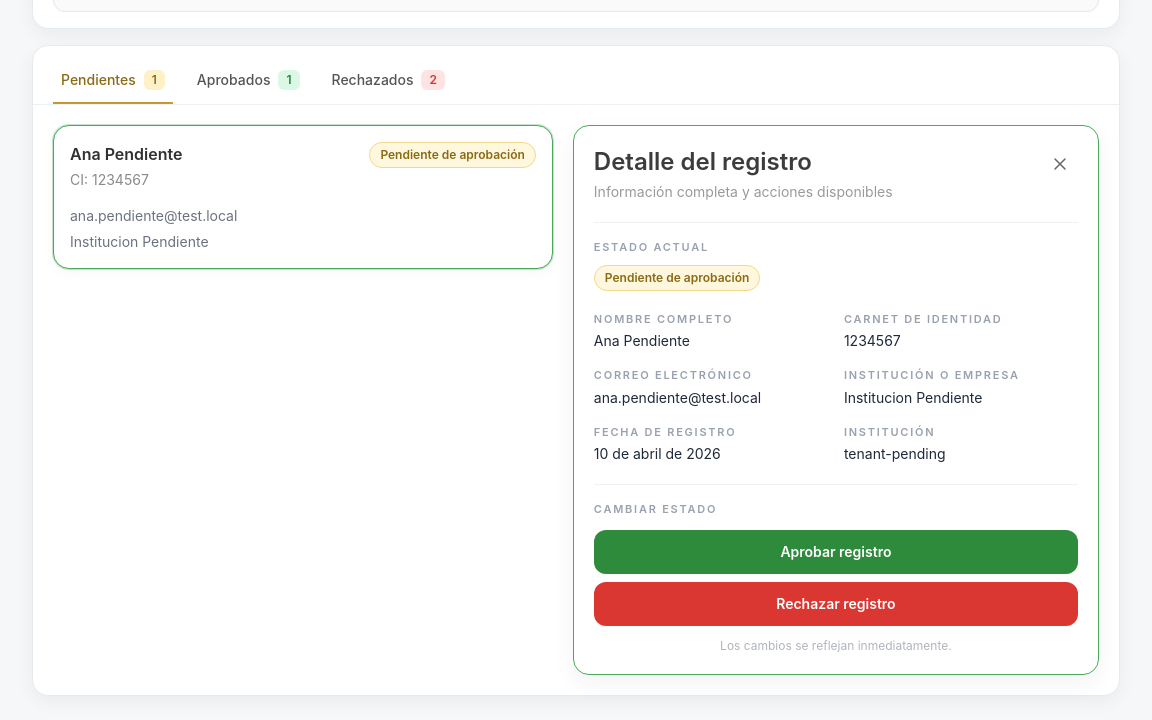
Scenario: MX-02 | Gestión de instituciones, administradores y wallets | Frontend Admin | Aprobaciones › [MX-02][D-NEW-014][INTEGRACION] muestra el conflicto de creación concurrente sin duplicar la aprobación
(page scrolled)
What coordinates should you click on to do the following:
click the button "Aprobar registro"
I would click on:
 (836, 552)
Its box is left=594, top=530, right=1078, bottom=574.
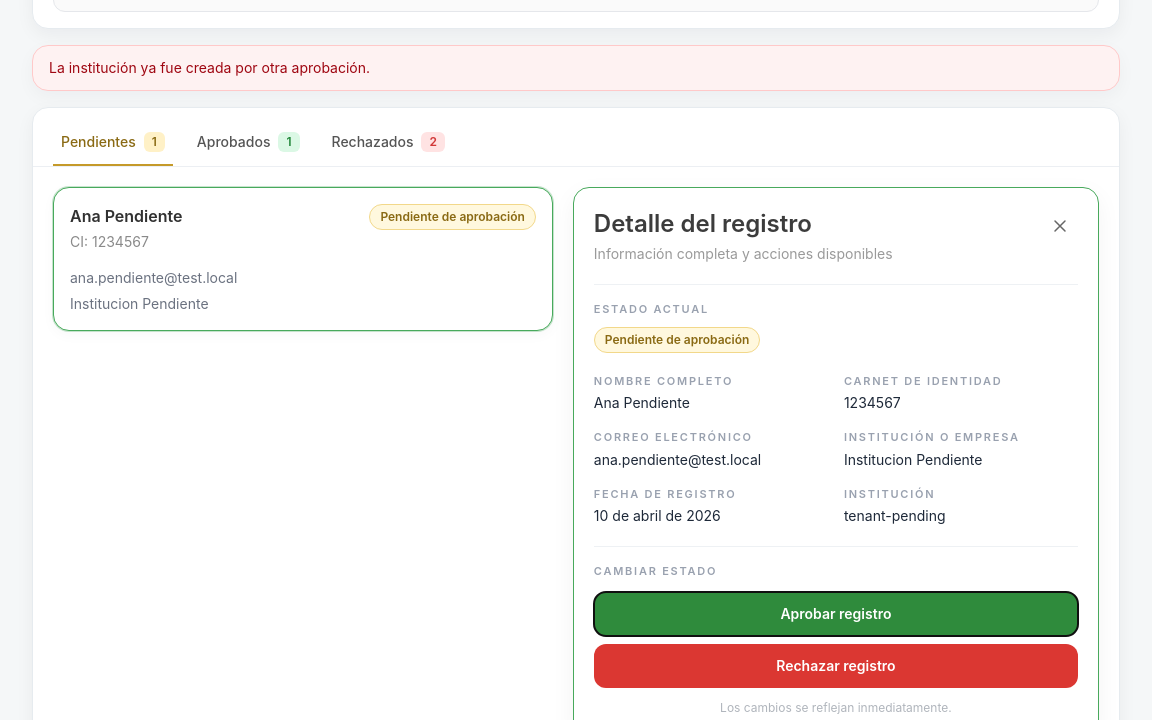
Expected: the button "Aprobar registro" is enabled, left=594, top=592, right=1078, bottom=636
Now the text "La institución ya fue creada por otra aprobación." is shown, box left=32, top=45, right=1120, bottom=91
